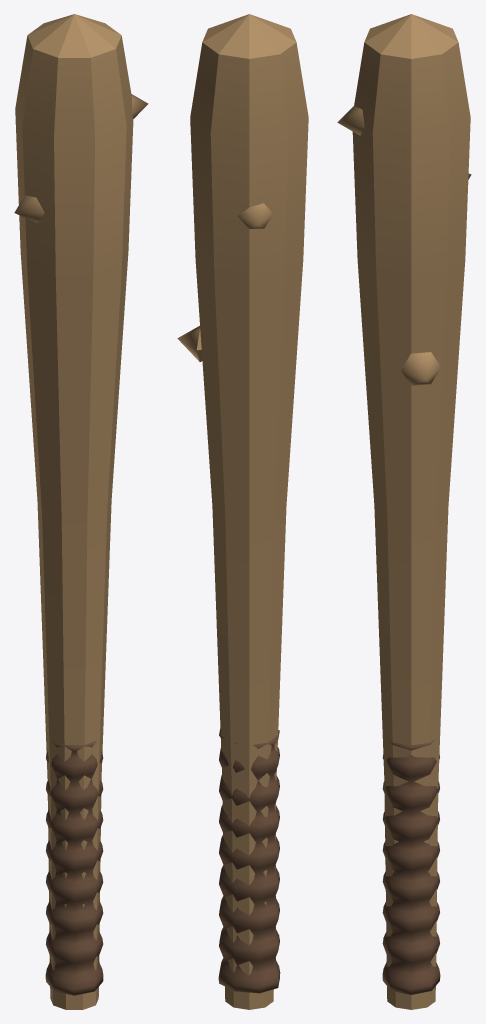
Rendered from club.glb.
3 renders of one model, left to right at view 1: azimuth 90°, elevation 25°; view 2: azimuth 150°, elevation 25°; view 3: azimuth 270°, elevation 25°, orthographic.
Visible parts, largest first — view 1: club; view 2: club; view 3: club.
Part boxes in pixels (left/top/right/bottom): club: left=14, top=14, right=148, bottom=1009; club: left=177, top=14, right=308, bottom=1009; club: left=337, top=14, right=471, bottom=1009.
Size of the model in its own units: 0.1919 by 1.6 by 0.1963.
